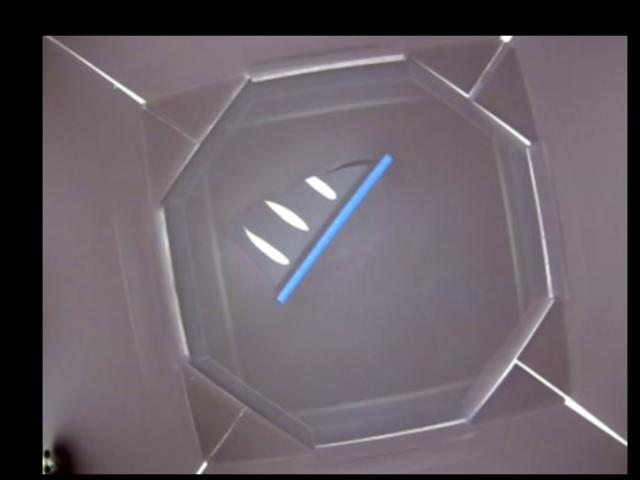China: (236, 152, 390, 305)
